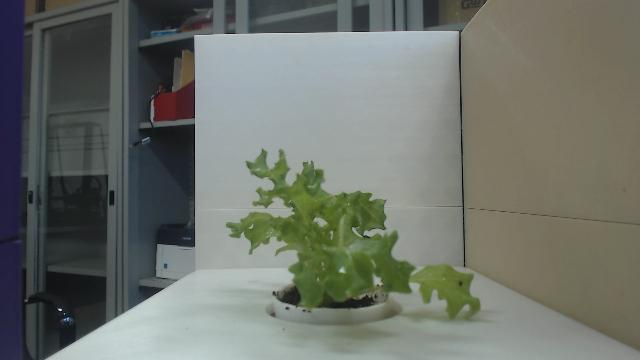Vegetative Stage: (224, 146, 482, 322)
